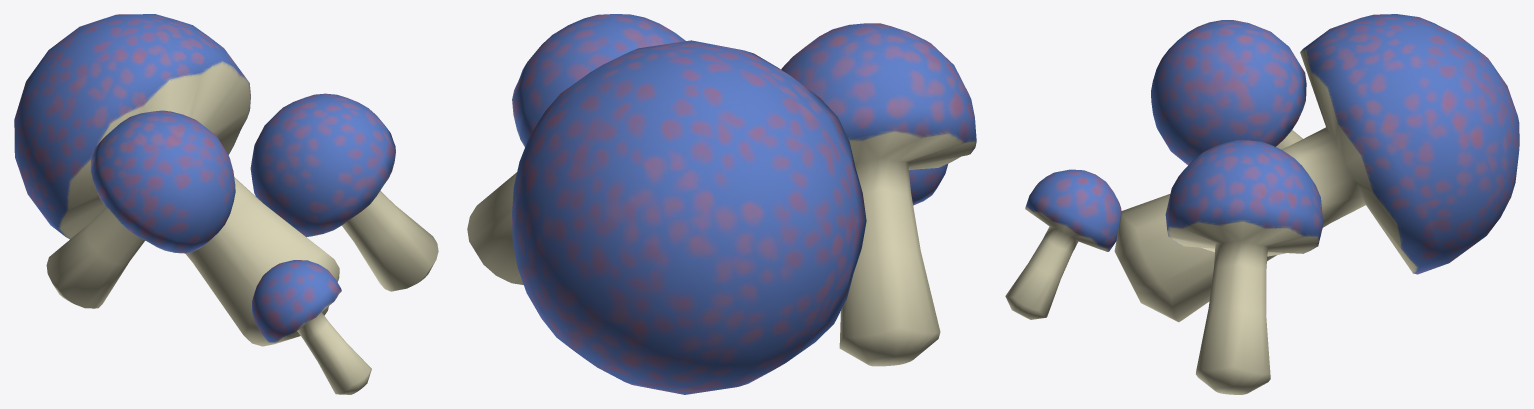
File: blue_mushrooms.fbx
The picture shows the model from 3 angles, left to right: view 1: azimuth 30°, elevation 25°; view 2: azimuth 150°, elevation 25°; view 3: azimuth 270°, elevation 25°; orthographic projection. The views are drawn at different scales.
Parts seen in each view (by area): view 1: mushroom red, mushroom red.002, mushroom red.001, mushroom red.004; view 2: mushroom red, mushroom red.002, mushroom red.001, mushroom red.004; view 3: mushroom red, mushroom red.001, mushroom red.002, mushroom red.004.
Part boxes in pixels (x1=…): mushroom red: x1=14, y1=14, x2=339, y2=346; mushroom red.002: x1=46, y1=110, x2=235, y2=308; mushroom red.001: x1=250, y1=93, x2=438, y2=291; mushroom red.004: x1=252, y1=260, x2=371, y2=394; mushroom red: x1=512, y1=40, x2=866, y2=394; mushroom red.002: x1=781, y1=23, x2=976, y2=366; mushroom red.001: x1=467, y1=14, x2=685, y2=284; mushroom red.004: x1=909, y1=164, x2=947, y2=205; mushroom red: x1=1114, y1=14, x2=1519, y2=322; mushroom red.001: x1=1165, y1=140, x2=1323, y2=394; mushroom red.002: x1=1151, y1=20, x2=1306, y2=165; mushroom red.004: x1=1005, y1=169, x2=1121, y2=319.
Bounding box in the file's own units: 15.09 × 10.47 × 18.08.
